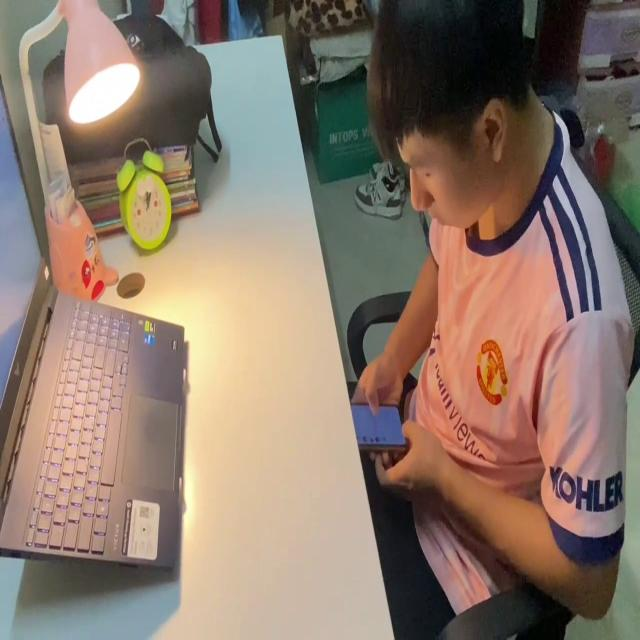laptop: (0, 72, 188, 574)
phone: (348, 391, 409, 458)
student: (350, 0, 630, 622)
